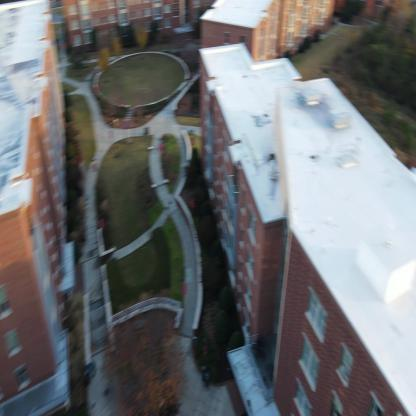Wolf Ridge: (188, 34, 416, 416), (0, 11, 69, 415), (74, 6, 183, 42)
